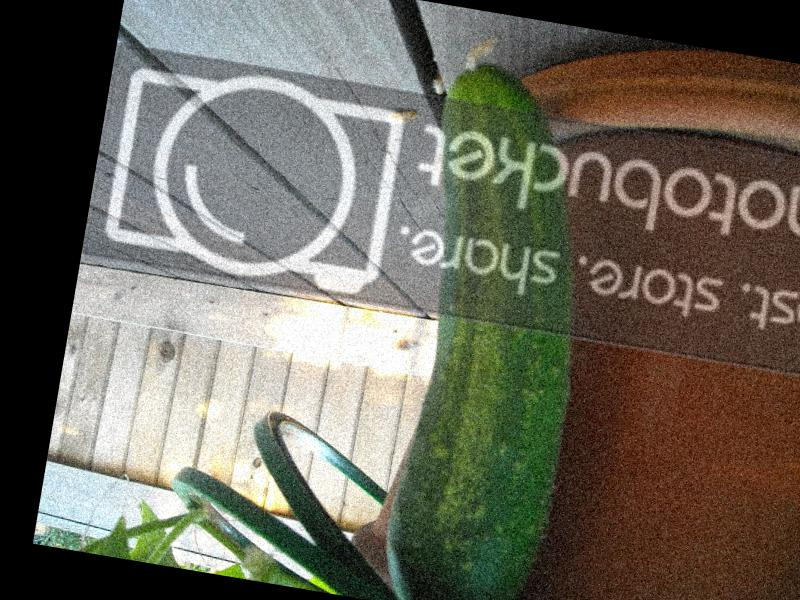Cucumber: (362, 34, 625, 600)
